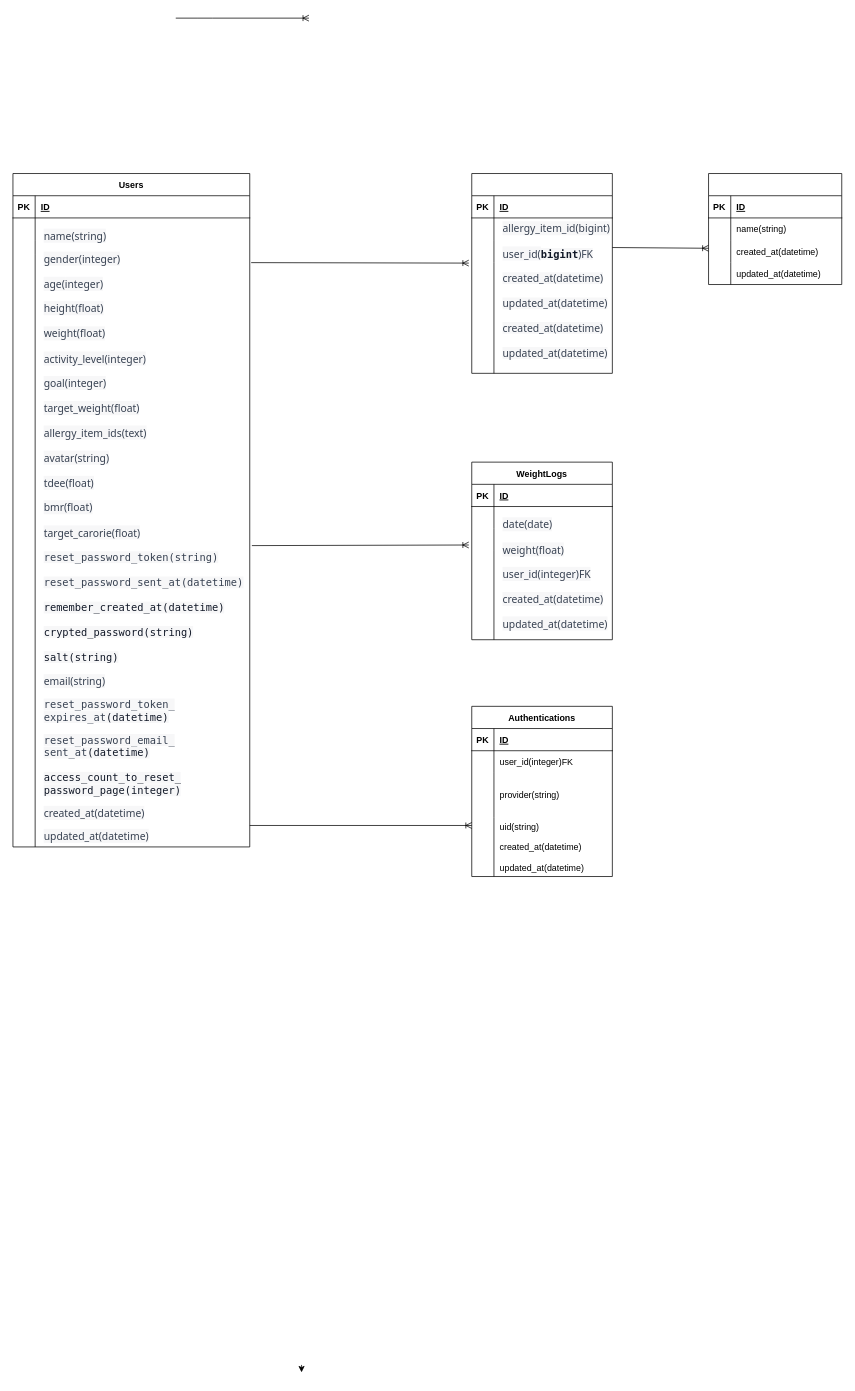
This 855x1391 diagram has some shape labels left out. Each missing label, with the box of its shape:
Allergy_items: (708, 173, 842, 285)
User_allergies: (471, 173, 612, 373)
